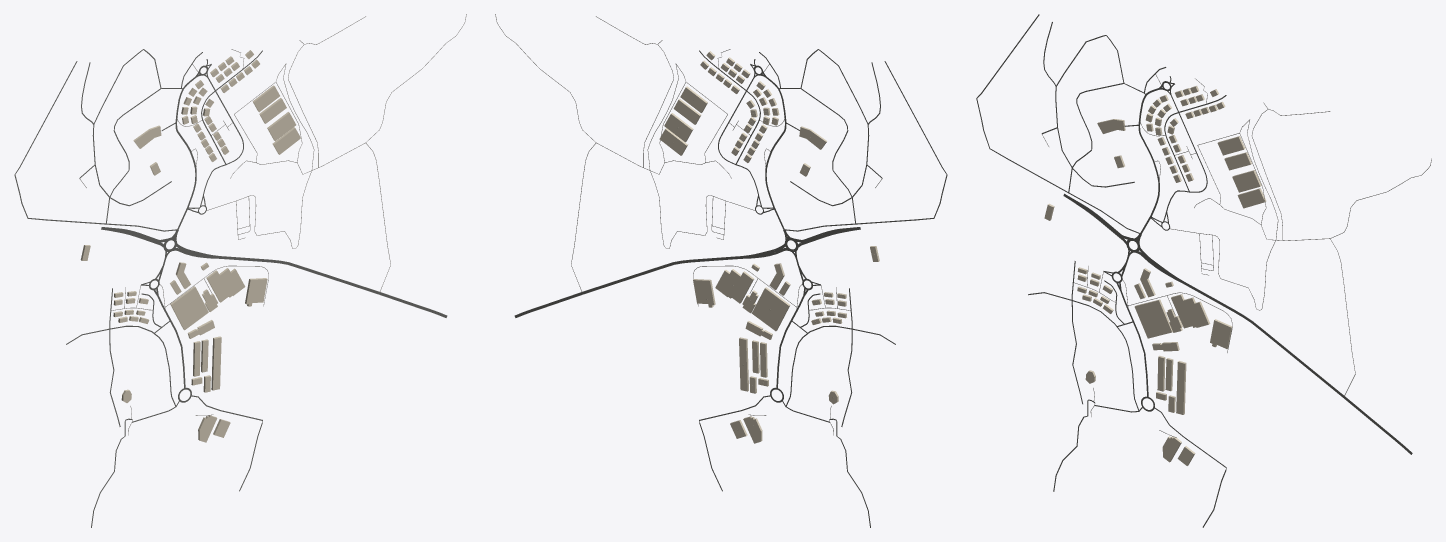
The model's file is historic-palestine-07_29_3493_3239.glb.
3 renders of one model, left to right at view 1: azimuth 30°, elevation 25°; view 2: azimuth 150°, elevation 25°; view 3: azimuth 330°, elevation 25°, orthographic.
Parts seen in each view (by area): view 1: Building_.051, Road 581.003, Building_.053, Road .009; view 2: Building_.051, Road 581.003, Building_.053, Road .009; view 3: Building_.051, Building_.053, Road 581.003, Road .009.
Boxes of the visible parts, left/top/right/bottom form: Building_.051: left=170, top=286, right=208, bottom=330; Road 581.003: left=220, top=256, right=447, bottom=317; Building_.053: left=206, top=268, right=245, bottom=302; Road .009: left=14, top=61, right=177, bottom=231; Building_.051: left=751, top=287, right=790, bottom=331; Road 581.003: left=514, top=256, right=741, bottom=317; Building_.053: left=715, top=269, right=753, bottom=303; Road .009: left=784, top=61, right=947, bottom=231; Building_.051: left=1134, top=299, right=1172, bottom=338; Building_.053: left=1171, top=294, right=1210, bottom=328; Road 581.003: left=1183, top=281, right=1412, bottom=454; Road .009: left=976, top=14, right=1140, bottom=234.
Bounding box in the file's own units: 1403 × 1396 × 8.7.
